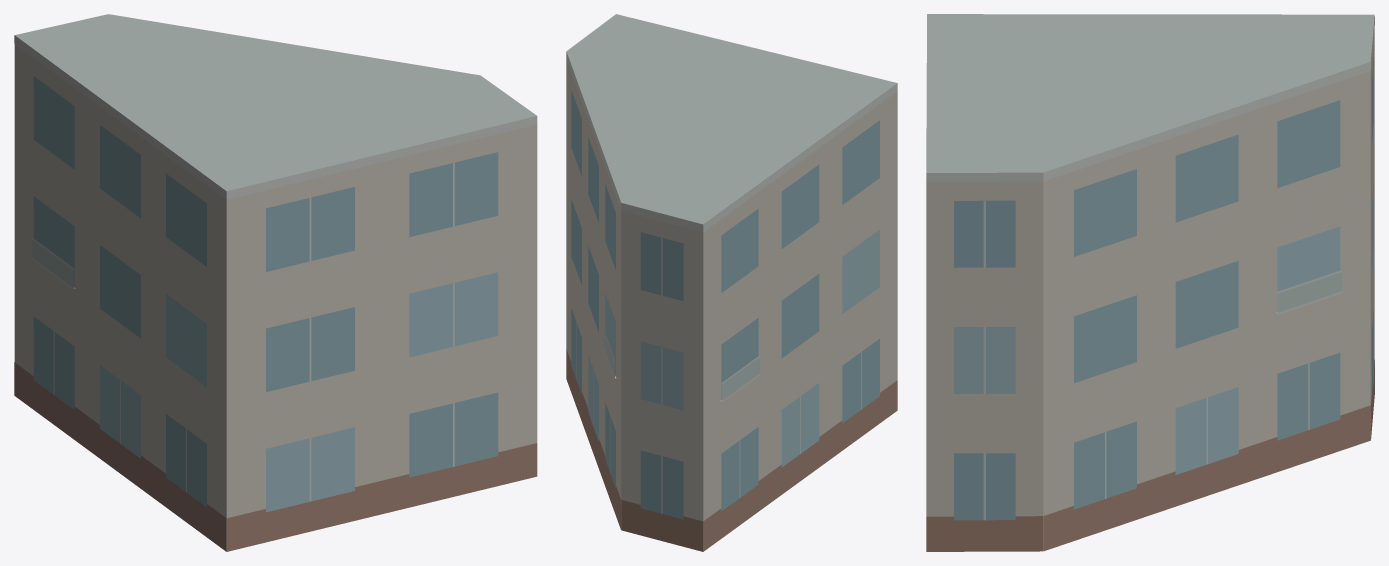
File: survey-upis-32620451.glb
3 views of the same model, side by side, from view 1: azimuth 30°, elevation 25°; view 2: azimuth 150°, elevation 25°; view 3: azimuth 270°, elevation 25° (orthographic). The views are drawn at different scales.
Parts seen in each view (by area): view 1: survey-upis-32620451.tmp; view 2: survey-upis-32620451.tmp; view 3: survey-upis-32620451.tmp.
Boxes of the visible parts, box(x1,y1,x2,y2) form: survey-upis-32620451.tmp: box(14, 14, 537, 551); survey-upis-32620451.tmp: box(566, 14, 897, 551); survey-upis-32620451.tmp: box(926, 14, 1374, 551).
Size of the model in its own units: 9.21 by 10.2 by 10.96.
